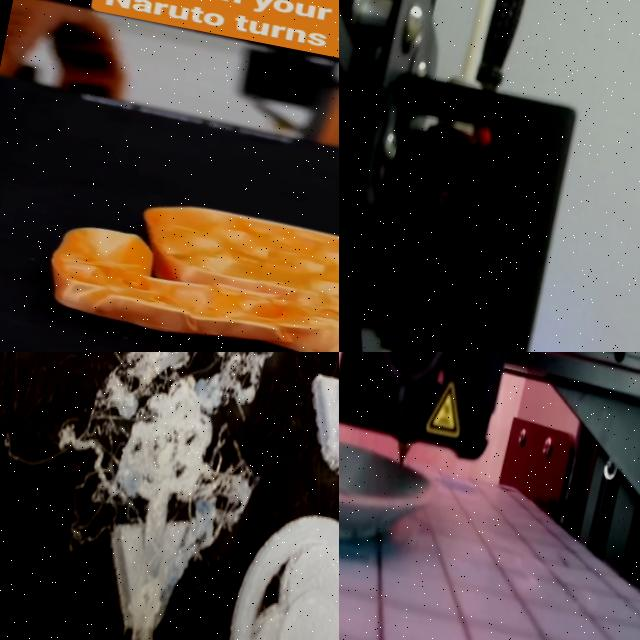spaghetti: (58, 352, 280, 640)
